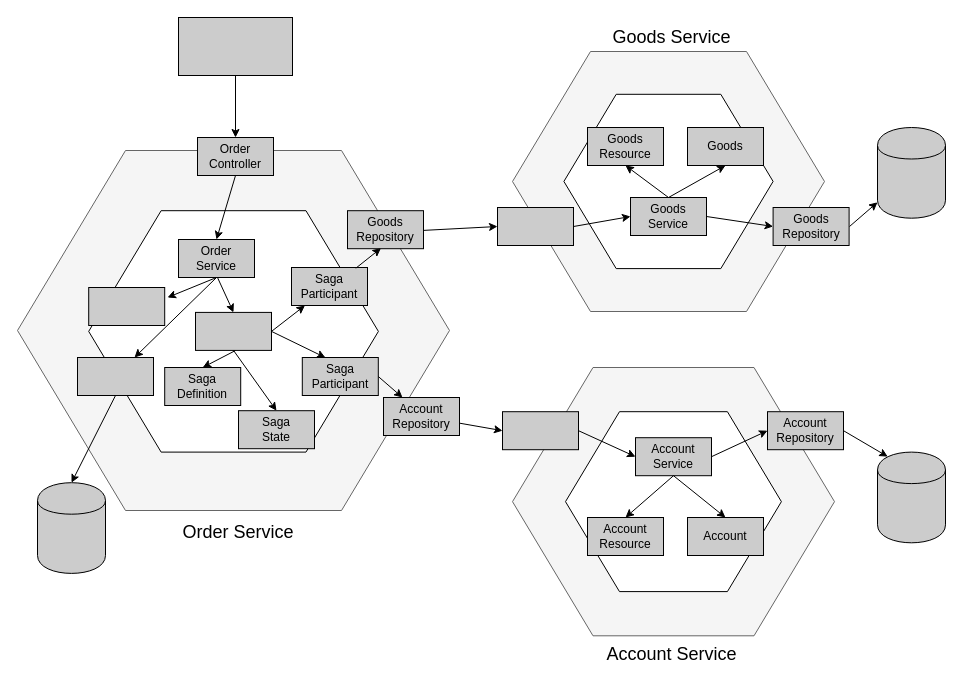
This 963x683 diagram has some shape labels left out. Here are the shapes that lost their labels. From the top down, the centre of each, then its label:
At (235,46): "Browser".
At (535,226): "Goods Controller".
At (126,306): "Order".
At (233,330): "Saga Manager".
At (115,376): "Order Repository".
At (540,430): "Account Controller".
